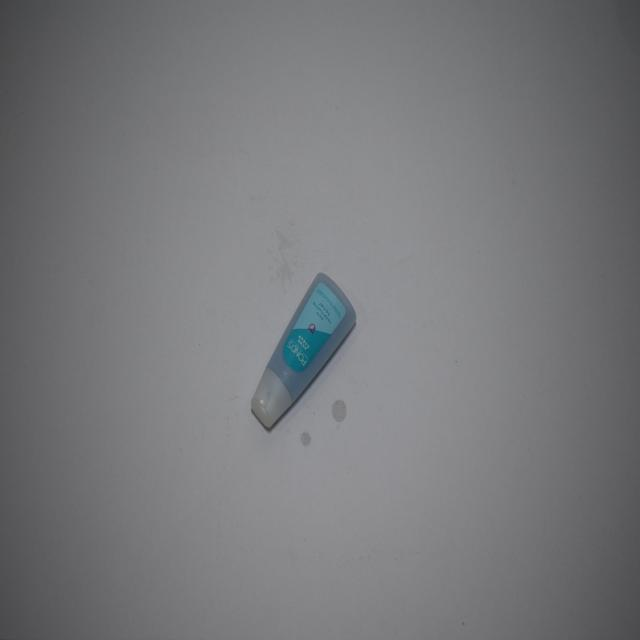high: (251, 273, 356, 428)
